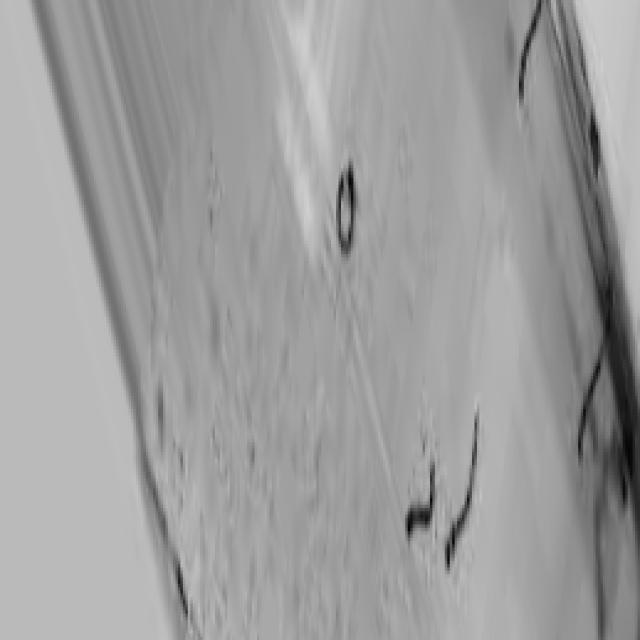larvas: (440, 409, 489, 576), (395, 461, 451, 552), (571, 349, 604, 463), (517, 1, 541, 101), (338, 166, 358, 255), (604, 445, 626, 502)
